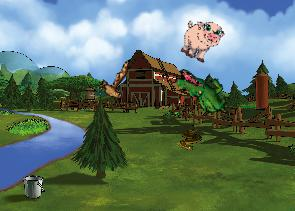crocodile: (170, 67, 237, 117)
eagle: (95, 59, 135, 109)
pig: (175, 13, 227, 67)
